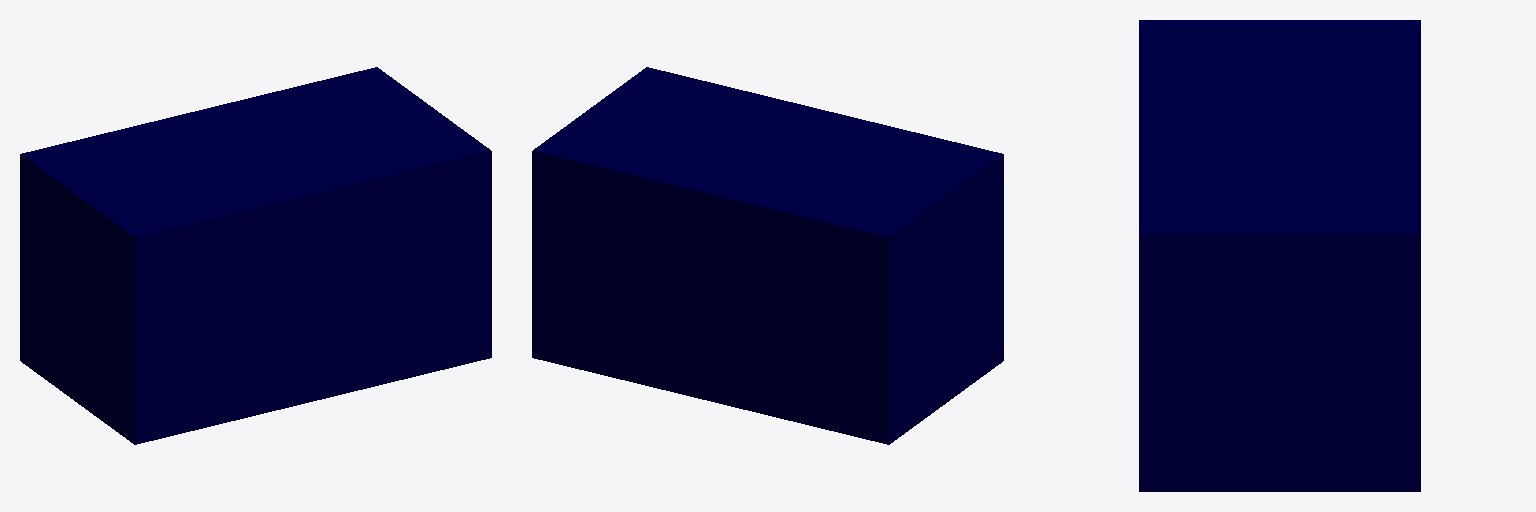
The robot description file, URDF, robot "dummy":
<?xml version="1.0"?>
<robot name="dummy">

  <material name="rack_blue"><color rgba="0.0 0.2 0.6 1.0"/></material>
  <material name="rack_orange"><color rgba="1.0 0.4 0.0 1.0"/></material>

  <link name="dummy">
    
    <inertial>
      <mass value="2.0"/>
      <origin xyz="0 0 0.1" rpy="0 0 0"/>
      <inertia ixx="0.1" ixy="0.0" ixz="0.0" iyy="0.1" iyz="0.0" izz="0.1"/>
    </inertial>

    <visual><origin xyz="0 0 0" rpy="0 0 0"/><geometry><mesh filename="dummy.dae"/></geometry></visual>
    <collision><origin xyz="0 0 0" rpy="0 0 0"/><geometry><mesh filename="dummy.dae"/></geometry></collision>

  </link>
</robot>

--- Facts derived from the render (not from the file) ---
Views: 3 orthographic renders of the robot side by side, from view 1: azimuth 30°, elevation 25°; view 2: azimuth 150°, elevation 25°; view 3: azimuth 270°, elevation 25°.
Model dummy with 1 links and 0 joints (none), rooted at dummy, posed every joint at zero.
Visible links, largest first — view 1: dummy; view 2: dummy; view 3: dummy.
Boxes of the visible links, box(x1,y1,x2,y2) form: dummy: box(20, 67, 491, 444); dummy: box(532, 67, 1003, 444); dummy: box(1139, 20, 1420, 491).
Bounding box of the posed robot: 0.225 × 0.125 × 0.125 m (x, y, z).
1 mesh visuals loaded from 1 distinct referenced files (1 Collada DAE).
